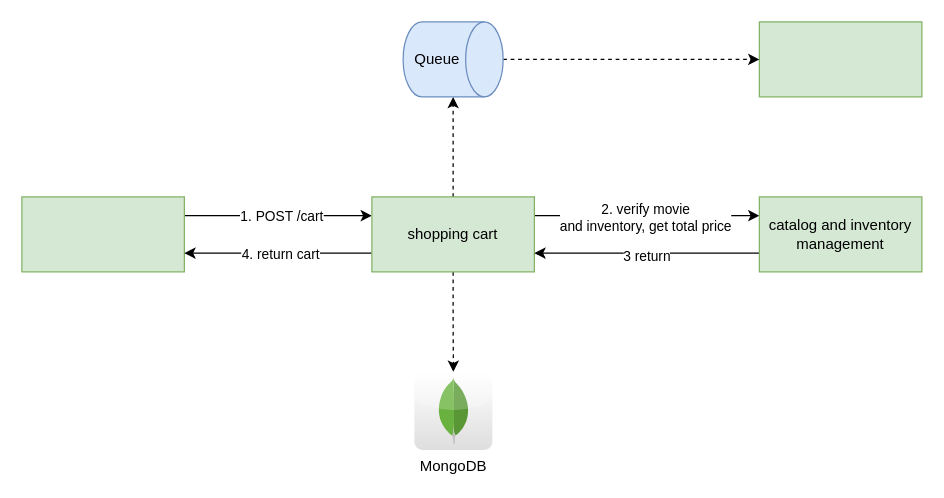
Image size: 944x498. Some labels were removed from this diagram. The centre of each missing label's shape, as x and y in pixels:
"reporting" goes at (840,59).
"web application" goes at (102,234).
